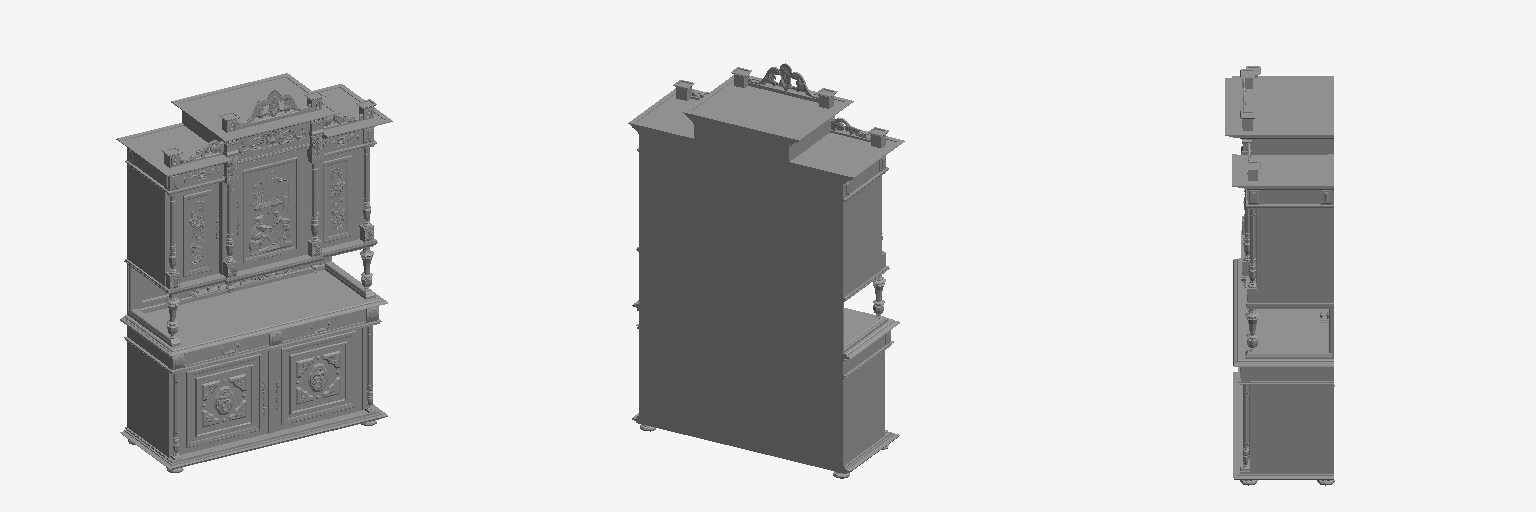
The model's file is cabinet_cabinet.obj.
3 views of the same model, side by side, from view 1: azimuth 30°, elevation 25°; view 2: azimuth 150°, elevation 25°; view 3: azimuth 270°, elevation 25° (orthographic).
Parts seen in each view (by area): view 1: board_01, doors, body_02, frame, decor_08, decor_06, decor_07, body_01, decor_02, decor_03, body_03, case (+4 smaller); view 2: back_side, board_01, body_02, decor_08, decor_07, body_01, body_03; view 3: board_01, body_02, decor_08, decor_06, body_01, body_03.
Boxes of the visible parts, <box> form: board_01: <box>117,73,392,469</box>; doors: <box>176,149,361,454</box>; body_02: <box>127,148,372,457</box>; frame: <box>171,100,372,447</box>; decor_08: <box>128,91,378,460</box>; decor_06: <box>165,148,373,456</box>; decor_07: <box>171,93,376,368</box>; body_01: <box>182,111,317,274</box>; decor_02: <box>197,90,346,411</box>; decor_03: <box>202,351,339,427</box>; body_03: <box>127,127,373,190</box>; case: <box>184,311,365,365</box>; back_side: <box>628,112,853,473</box>; board_01: <box>629,75,904,471</box>; body_02: <box>844,175,884,465</box>; decor_08: <box>673,67,890,433</box>; decor_07: <box>692,67,870,139</box>; body_01: <box>789,119,829,161</box>; body_03: <box>844,156,885,198</box>; board_01: <box>1225,76,1332,479</box>; body_02: <box>1250,208,1332,471</box>; decor_08: <box>1240,66,1331,470</box>; decor_06: <box>1243,189,1259,467</box>; body_01: <box>1247,139,1332,264</box>; body_03: <box>1247,190,1332,204</box>.
Bounding box in the file's own units: 2.9 × 4.41 × 1.22.